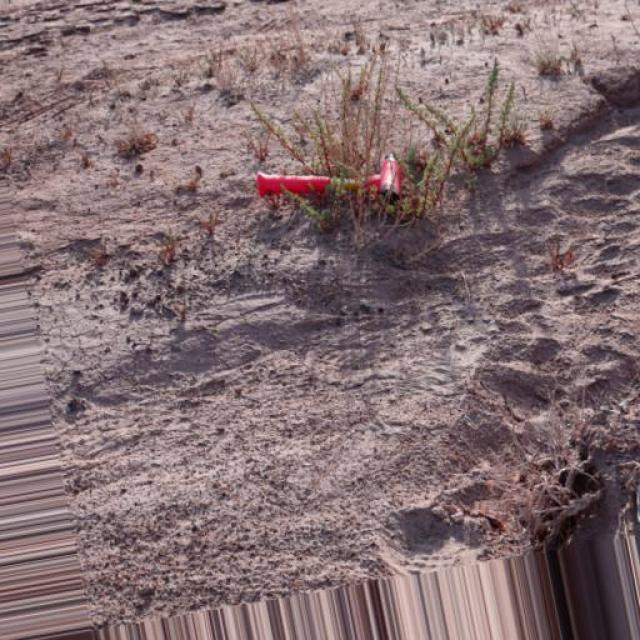mallet: (254, 152, 404, 206)
